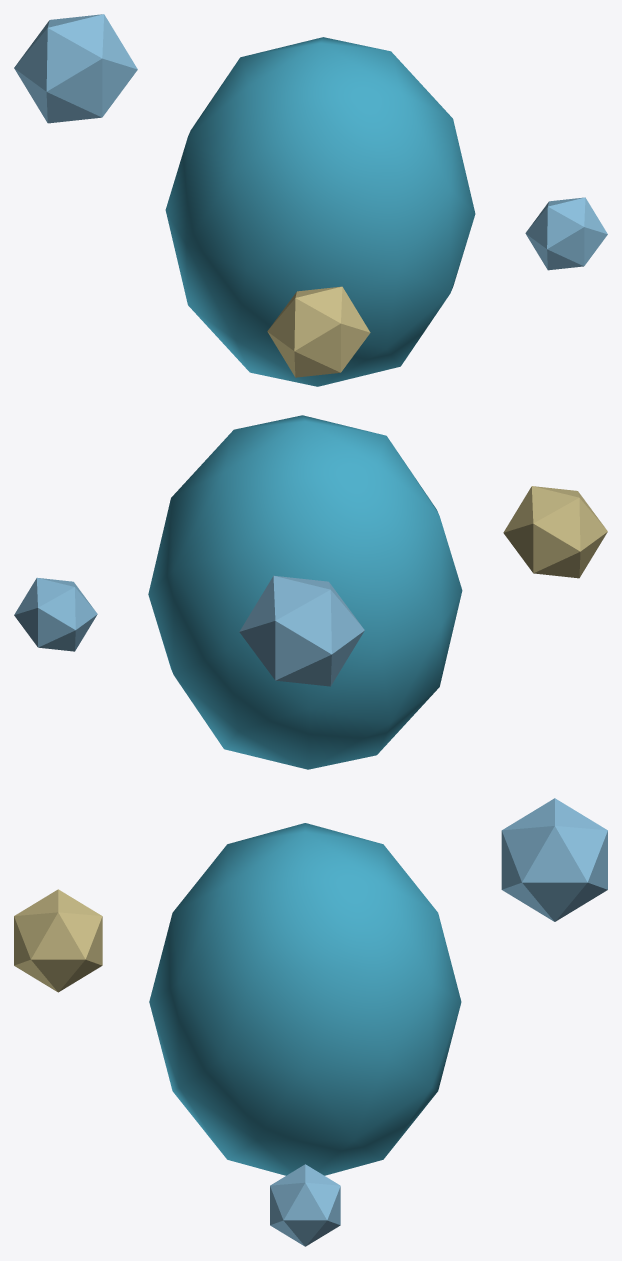
File: landmark.glb
The picture shows the model from 3 angles, top to bottom: view 1: azimuth 30°, elevation 25°; view 2: azimuth 150°, elevation 25°; view 3: azimuth 270°, elevation 25°; orthographic projection.
Parts seen in each view (by area): view 1: landmark_core_0, landmark_orbit_2, landmark_orbit_1, landmark_orbit_0; view 2: landmark_core_0, landmark_orbit_2, landmark_orbit_1, landmark_orbit_0; view 3: landmark_core_0, landmark_orbit_2, landmark_orbit_1, landmark_orbit_0.
Part boxes in pixels (x1=…): landmark_core_0: x1=165, y1=37, x2=475, y2=386; landmark_orbit_2: x1=14, y1=14, x2=137, y2=123; landmark_orbit_1: x1=267, y1=286, x2=370, y2=377; landmark_orbit_0: x1=525, y1=197, x2=607, y2=270; landmark_core_0: x1=148, y1=415, x2=462, y2=769; landmark_orbit_2: x1=239, y1=575, x2=364, y2=686; landmark_orbit_1: x1=503, y1=486, x2=607, y2=578; landmark_orbit_0: x1=14, y1=577, x2=97, y2=651; landmark_core_0: x1=149, y1=823, x2=461, y2=1175; landmark_orbit_2: x1=501, y1=798, x2=607, y2=921; landmark_orbit_1: x1=14, y1=889, x2=102, y2=992; landmark_orbit_0: x1=270, y1=1164, x2=340, y2=1246.
Size of what is drawn, in the model's own units: 3.96 by 2.88 by 4.57.
